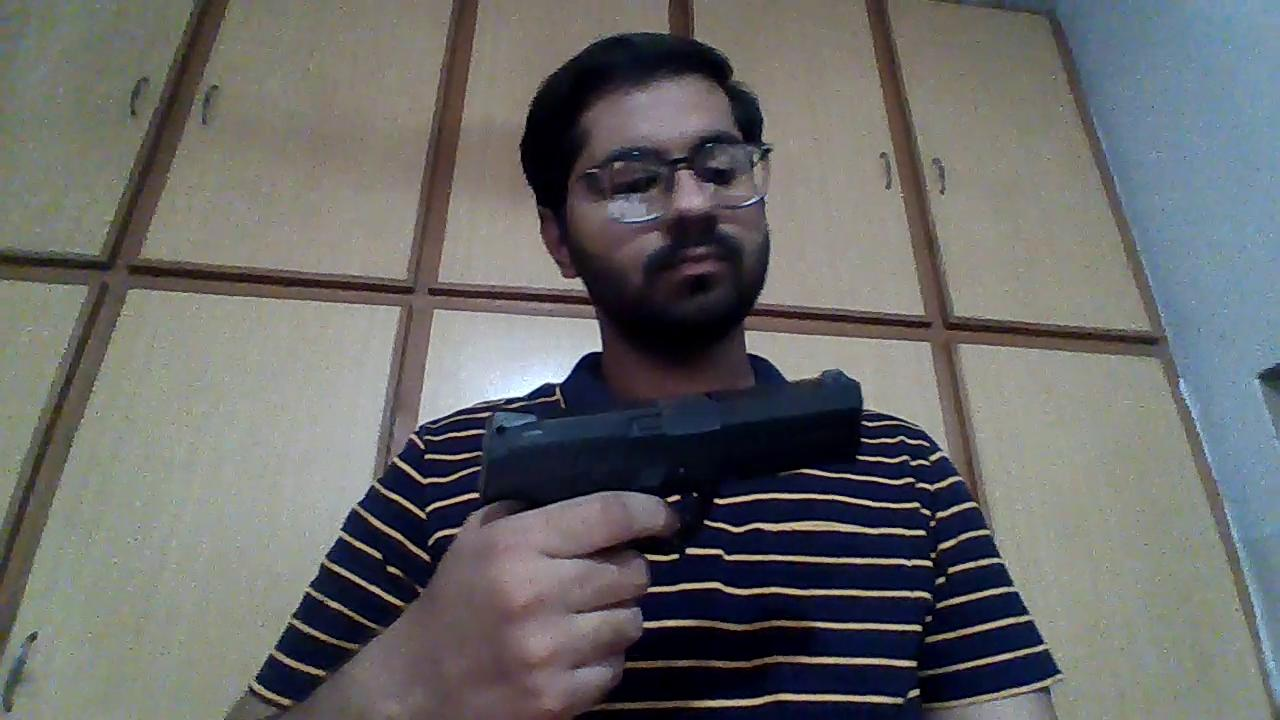criminal: (223, 33, 1066, 720)
weapon: (479, 363, 868, 560)
